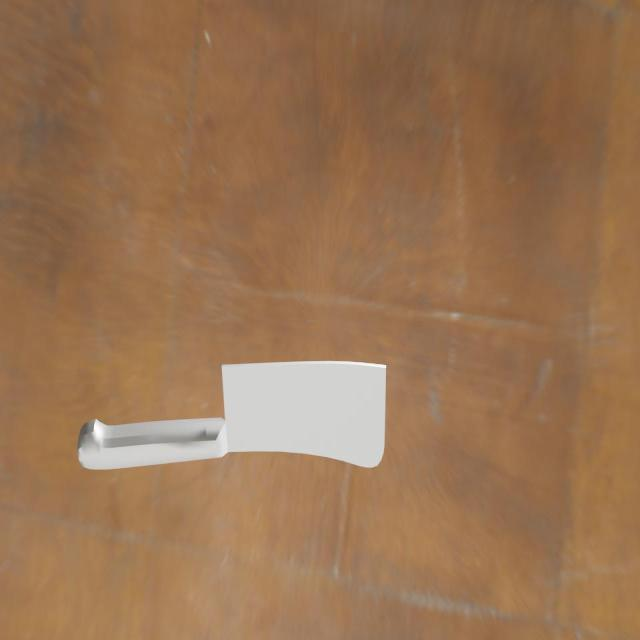knife: (68, 422, 224, 478)
